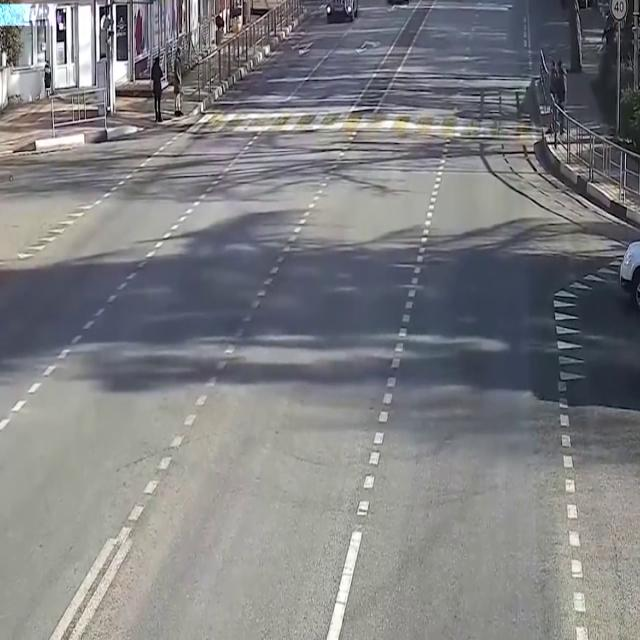noaccident: (126, 3, 528, 408)
